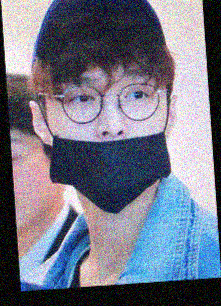mask_weared_incorrect: (45, 70, 170, 214)
